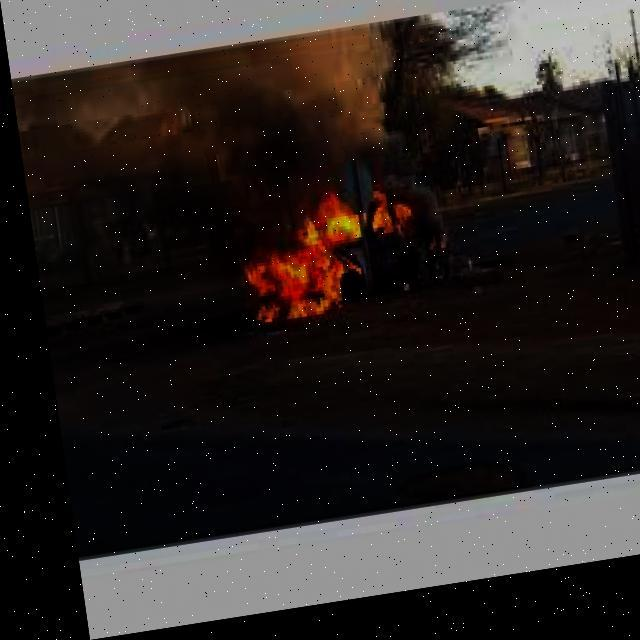Fire: (215, 180, 424, 347)
